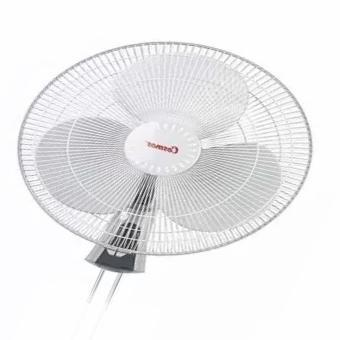fan: (20, 34, 317, 340)
